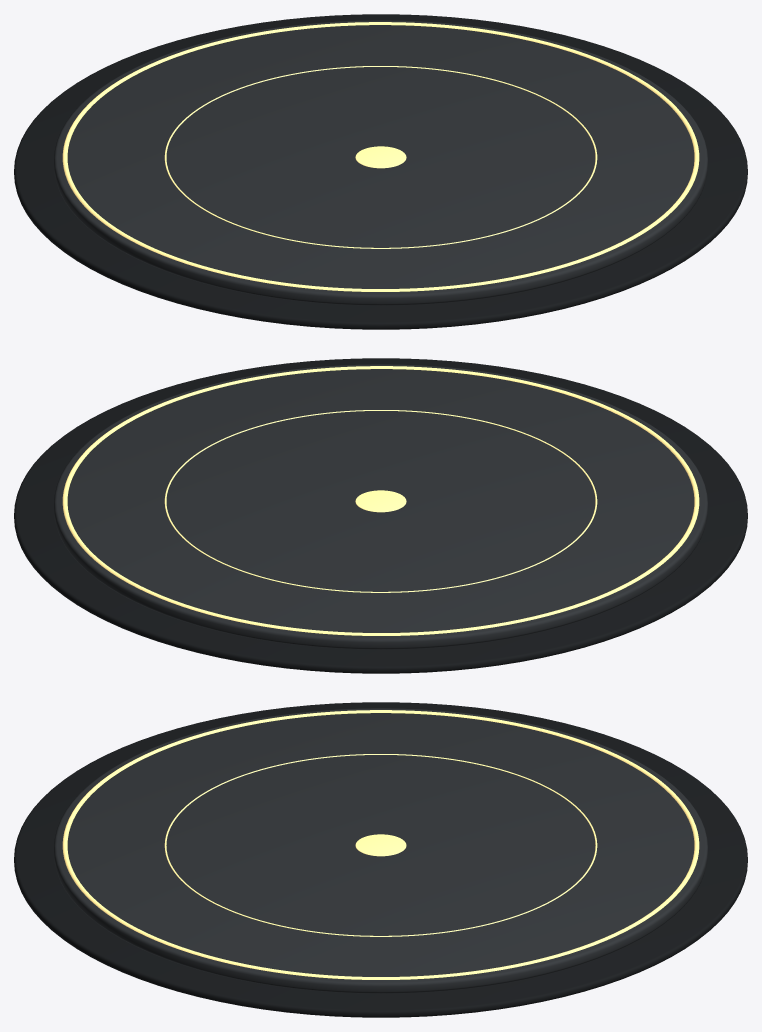
Rendered from podium.glb.
3 renders of one model, top to bottom at view 1: azimuth 30°, elevation 25°; view 2: azimuth 150°, elevation 25°; view 3: azimuth 270°, elevation 25°, orthographic.
Parts seen in each view (by area): view 1: disc, plinth, rim, mid_ring, medallion; view 2: disc, plinth, rim, mid_ring, medallion; view 3: disc, plinth, rim, mid_ring, medallion.
Boxes of the visible parts, x1,y1,x2,y2 form: disc: (54, 20, 707, 305); plinth: (14, 14, 747, 329); rim: (62, 22, 699, 291); mid_ring: (164, 66, 597, 248); medallion: (355, 146, 406, 168); disc: (54, 364, 707, 649); plinth: (14, 358, 747, 673); rim: (62, 366, 699, 635); mid_ring: (164, 410, 597, 592); medallion: (355, 490, 406, 512); disc: (54, 708, 707, 993); plinth: (14, 702, 747, 1017); rim: (62, 710, 699, 979); mid_ring: (164, 754, 597, 936); medallion: (355, 834, 406, 856).
Bounding box in the file's own units: 4.6 × 0.137 × 4.6.
